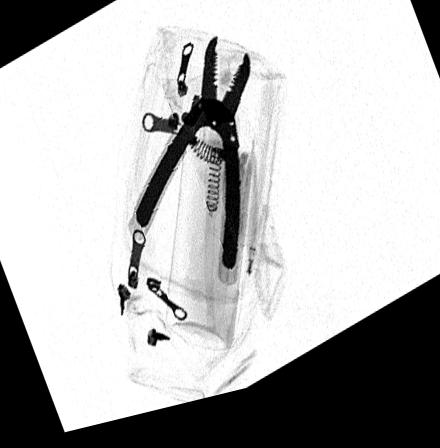Pliers: (131, 48, 252, 279)
